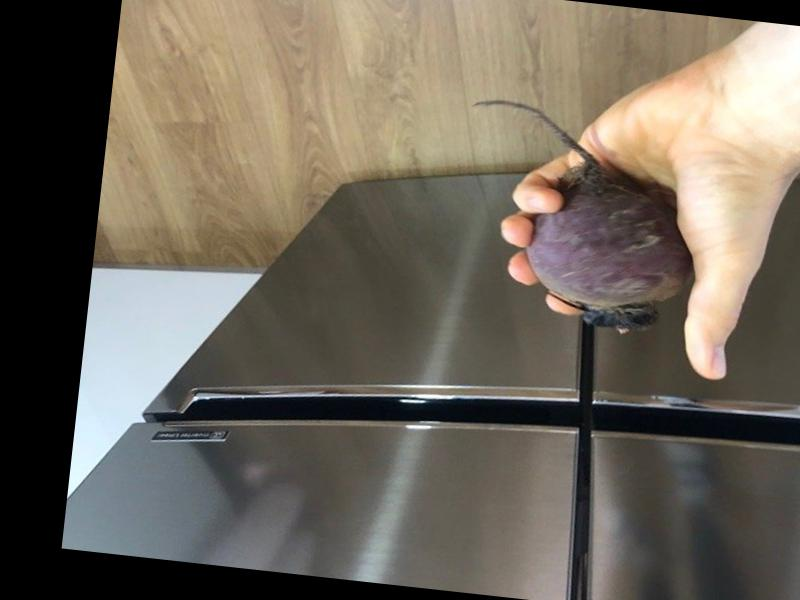Beet: (449, 98, 708, 339)
